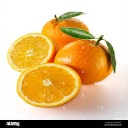orange: (54, 33, 116, 88), (15, 62, 81, 108)
